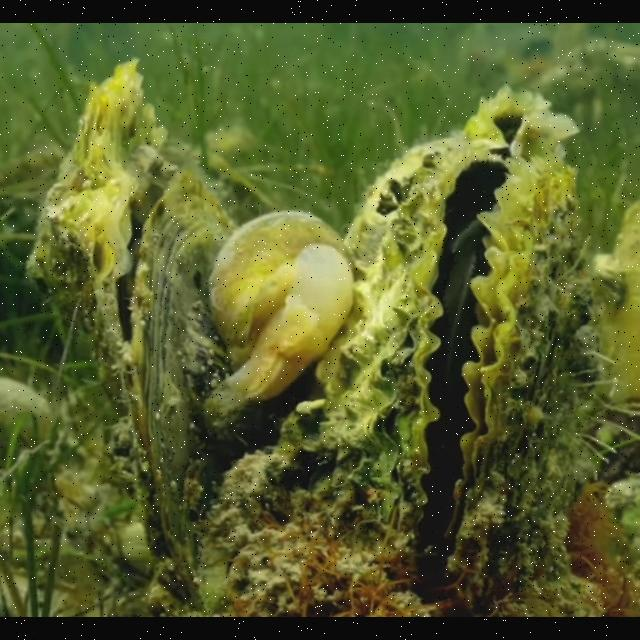Oyster-Open: (312, 84, 606, 598), (26, 54, 238, 602)
